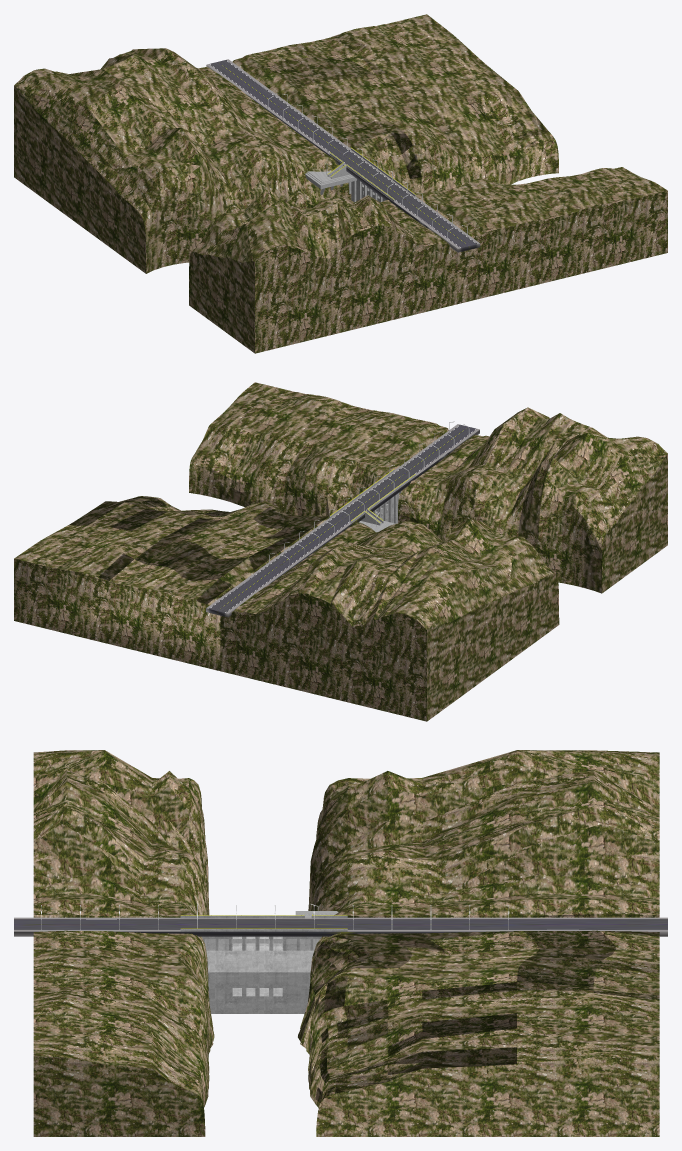
Rendered from daba2.gltf.
3 renders of one model, top to bottom at view 1: azimuth 30°, elevation 25°; view 2: azimuth 150°, elevation 25°; view 3: azimuth 270°, elevation 25°, orthographic. The views are drawn at different scales.
Visible parts, largest first — view 1: Component_9_1, Box001, Component_4_1, Component_3_1; view 2: Component_9_1, Box001, Component_4_1; view 3: Component_9_1, Box001, Component_4_1.
Part boxes in pixels (<box>): Component_9_1: <box>14,14,667,353</box>; Box001: <box>206,59,480,252</box>; Component_4_1: <box>329,148,415,202</box>; Component_3_1: <box>305,171,356,189</box>; Component_9_1: <box>14,382,667,721</box>; Box001: <box>206,424,479,617</box>; Component_4_1: <box>329,469,415,523</box>; Component_9_1: <box>33,750,659,1136</box>; Box001: <box>14,917,667,936</box>; Component_4_1: <box>180,915,347,1013</box>.
Bounding box in the file's own units: 1139 × 317 × 1202.
9 materials, 5 textured.
